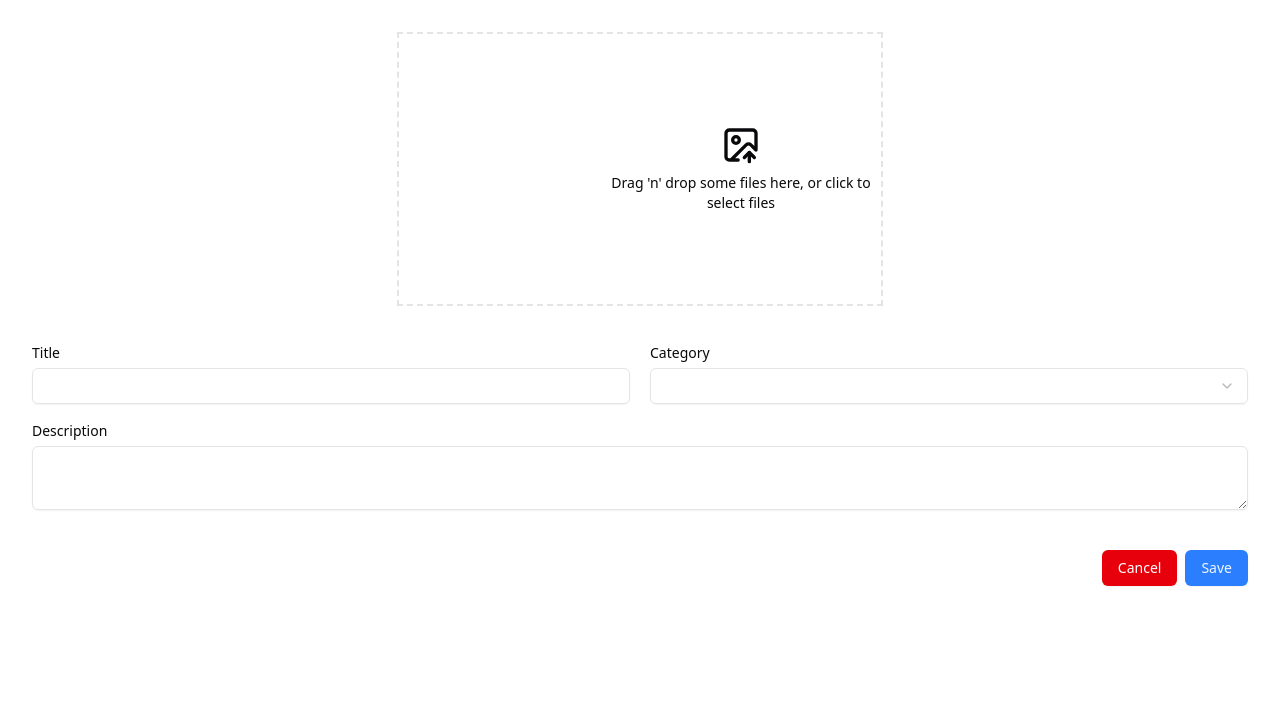
ArticleCreate › validates description length
Type "Short desc" into the text box labelled "Description".
click(640, 478); type("Short desc")  # box [32,446,1248,510]
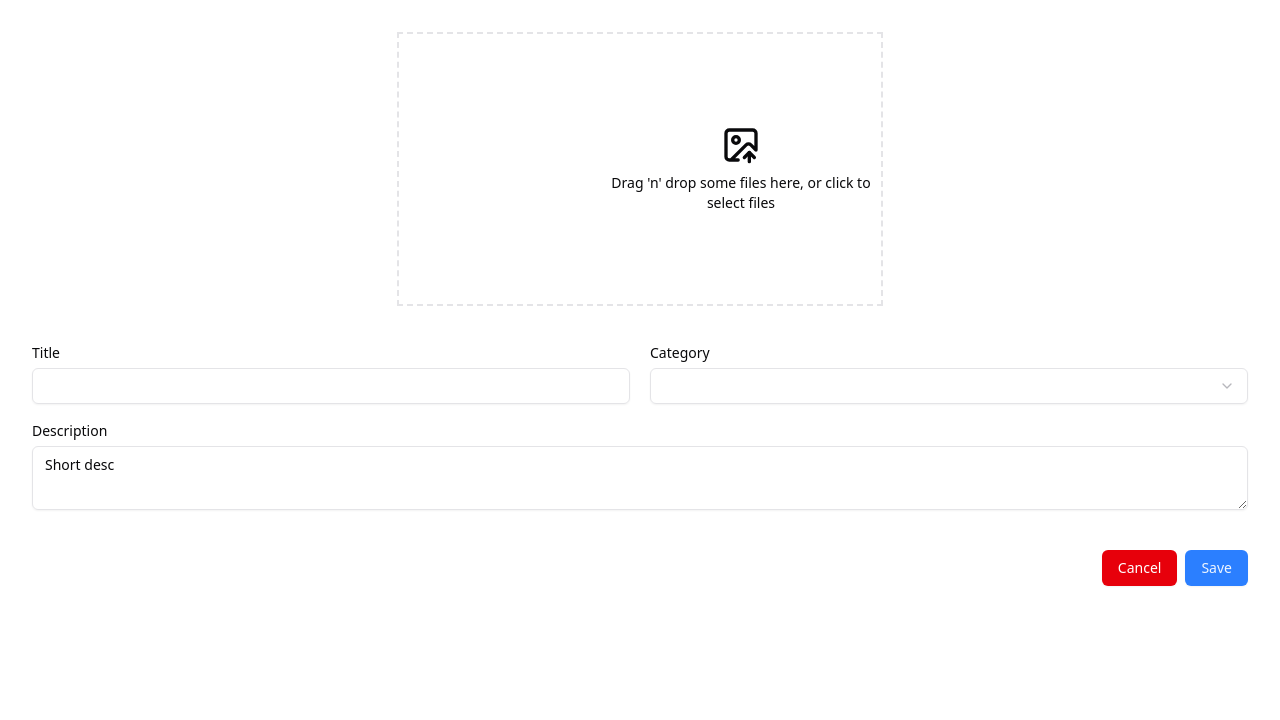
Click the button "Save".
click(1217, 568)  # box [1185,550,1248,586]
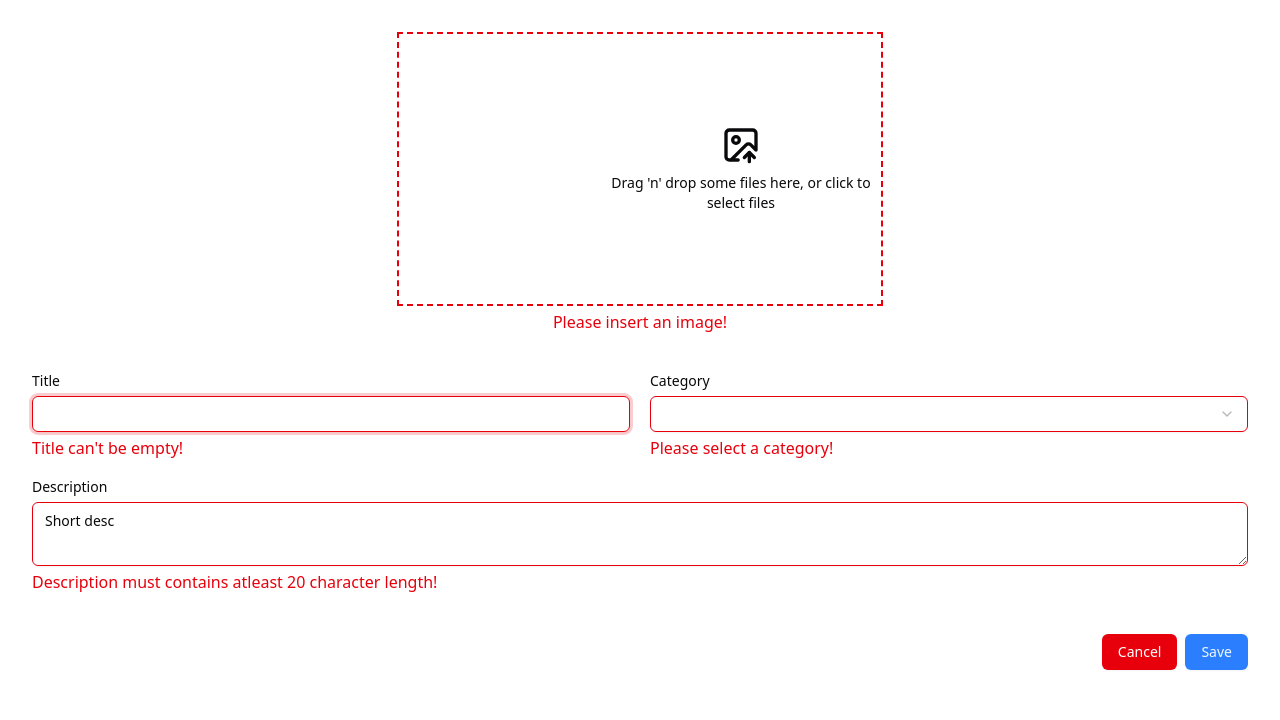
Now the text "Description must contains atleast 20 character length!" is shown, box [32,571,437,593]
